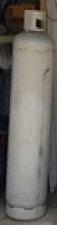cylinder: (1, 1, 57, 225)
